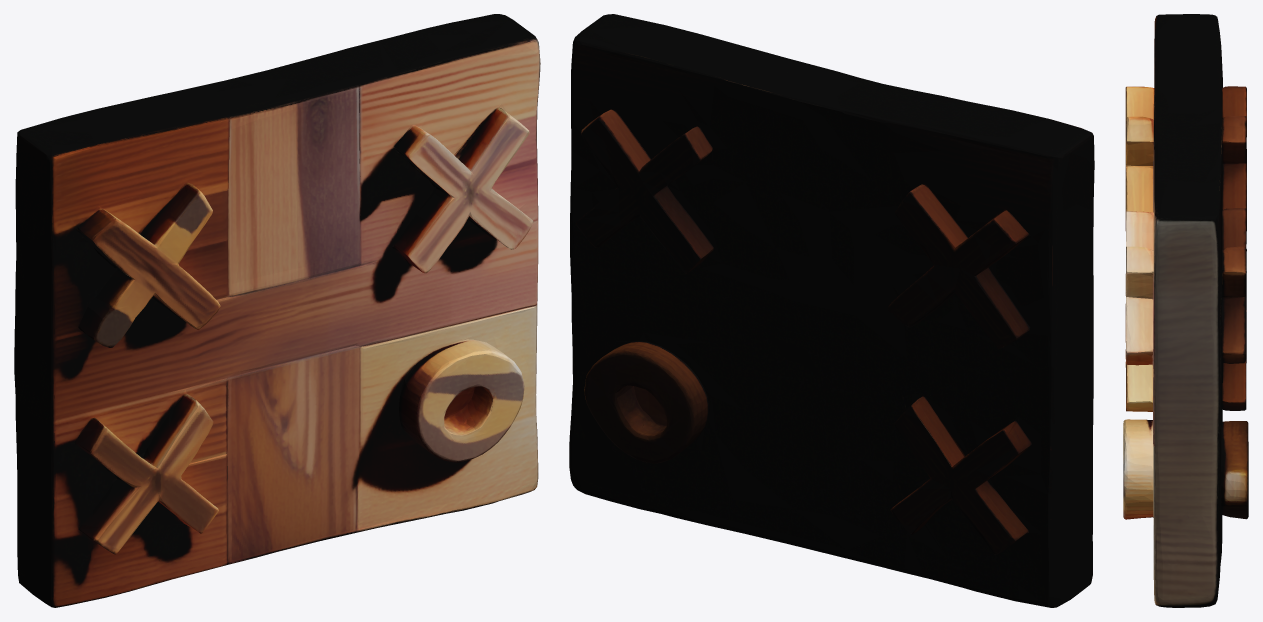
The model's file is wooden-tic-tac-toe-rustic.jpeg.glb.
The picture shows the model from 3 angles, left to right: view 1: azimuth 30°, elevation 25°; view 2: azimuth 150°, elevation 25°; view 3: azimuth 270°, elevation 25°; orthographic projection. The views are drawn at different scales.
Parts seen in each view (by area): view 1: world; view 2: world; view 3: world.
Boxes of the visible parts, x1,y1,x2,y2 form: world: (14, 14, 540, 607); world: (569, 14, 1094, 607); world: (1123, 14, 1248, 607).
Size of the model in its own units: 0.9923 by 0.8806 by 0.2551.
Materials: 1 (1 with a texture image).
